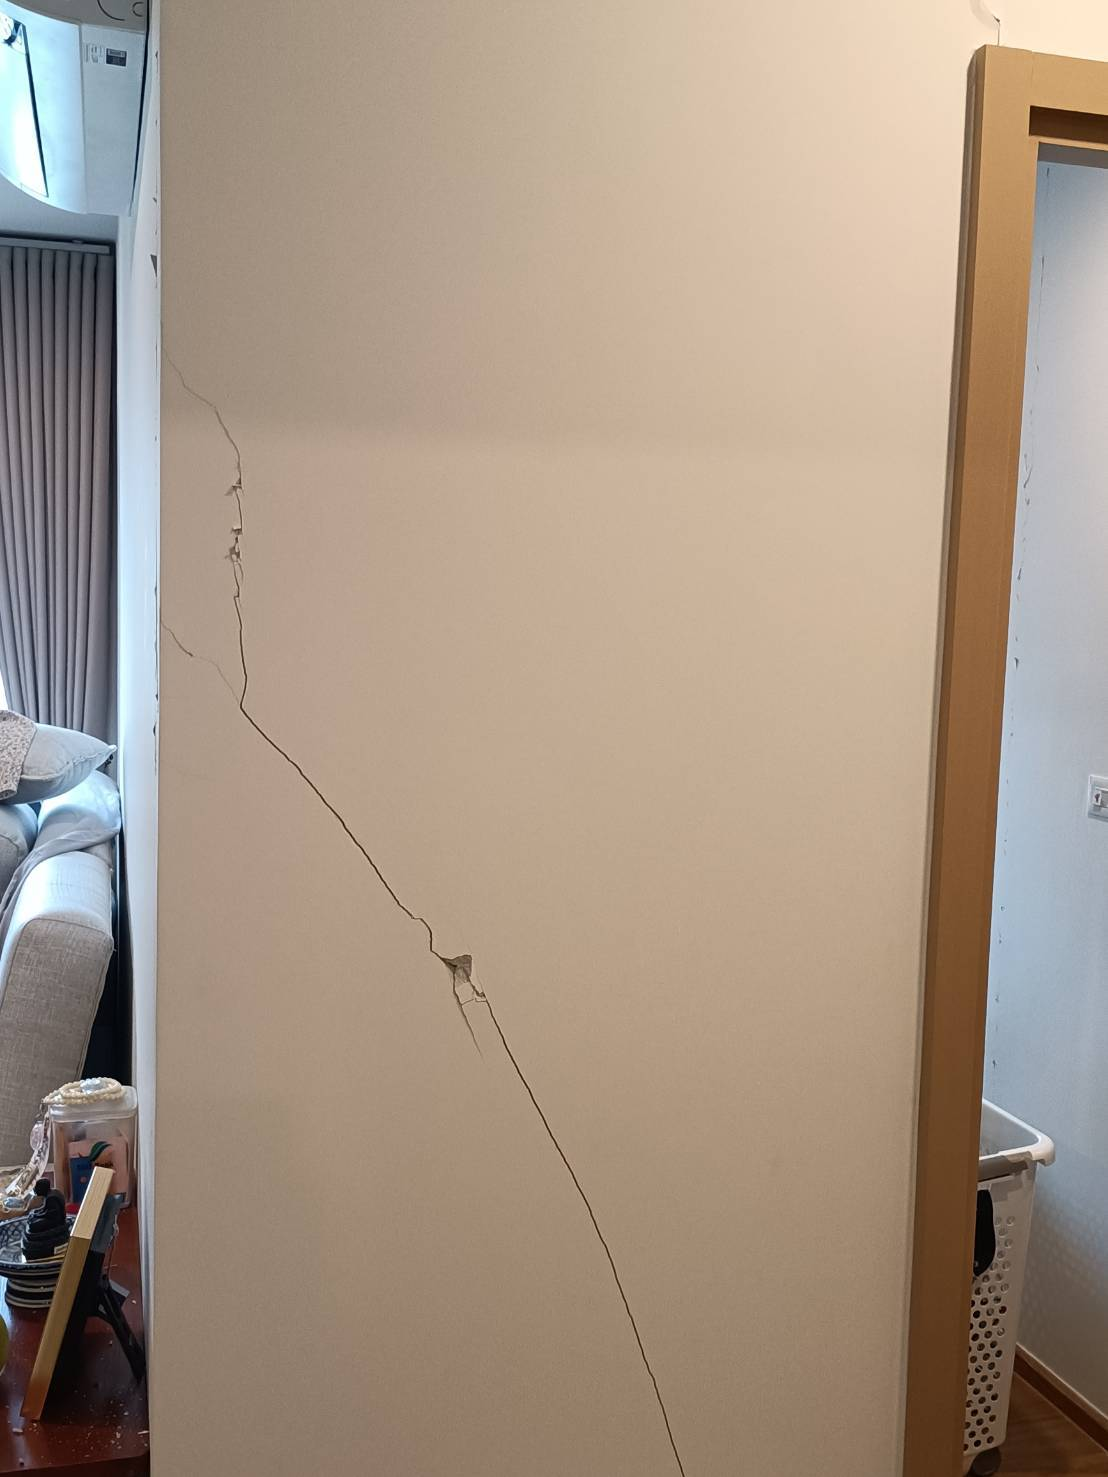Low: (151, 324, 720, 1477)
